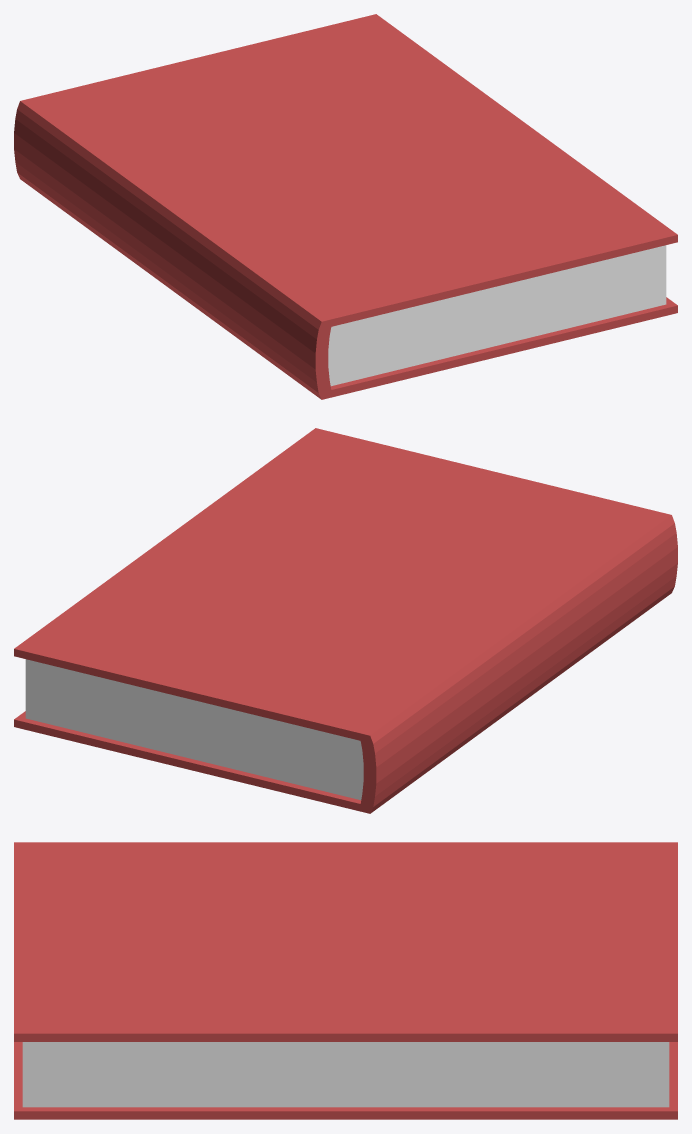
Rendered from buch.fbx.
3 views of the same model, one above another, from view 1: azimuth 30°, elevation 25°; view 2: azimuth 150°, elevation 25°; view 3: azimuth 270°, elevation 25° (orthographic). The views are drawn at different scales.
Parts seen in each view (by area): view 1: Book1; view 2: Book1; view 3: Book1.
Boxes of the visible parts, x1,y1,x2,y2 form: Book1: (14, 14, 677, 399); Book1: (14, 428, 677, 813); Book1: (14, 842, 677, 1119).
Size of the model in its own units: 0.6935 by 0.143 by 1.
